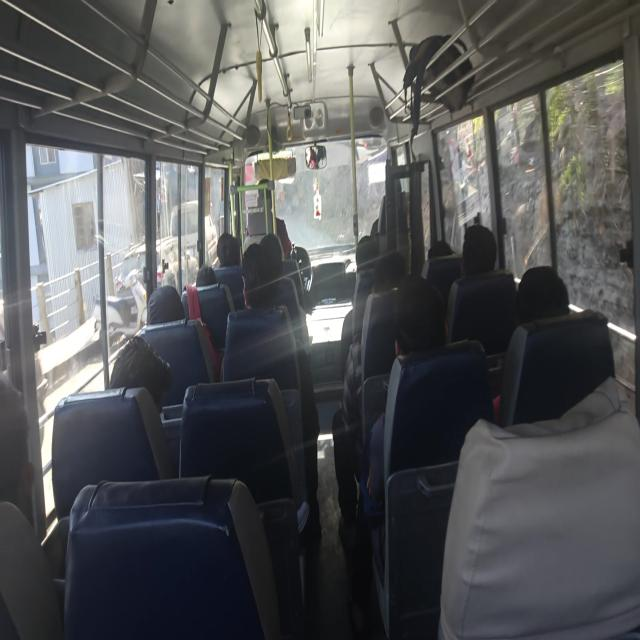person: (220, 238, 321, 536), (332, 249, 408, 536), (361, 274, 448, 516), (0, 370, 62, 638), (446, 223, 498, 339), (110, 334, 172, 412), (516, 264, 570, 324), (146, 284, 185, 325), (216, 232, 241, 267), (195, 264, 218, 286)
